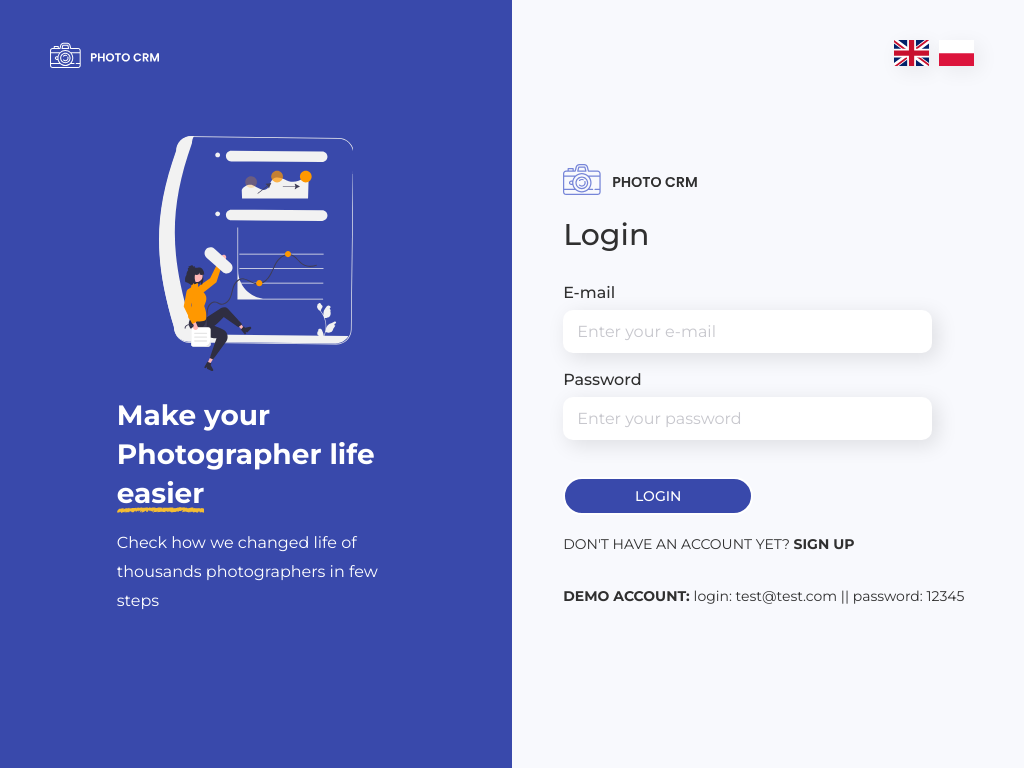
Test case: Auth test › Should display errors message when user dont type email and password
Click the button "LOGIN" at (658, 496), box 563,477 -> 753,515
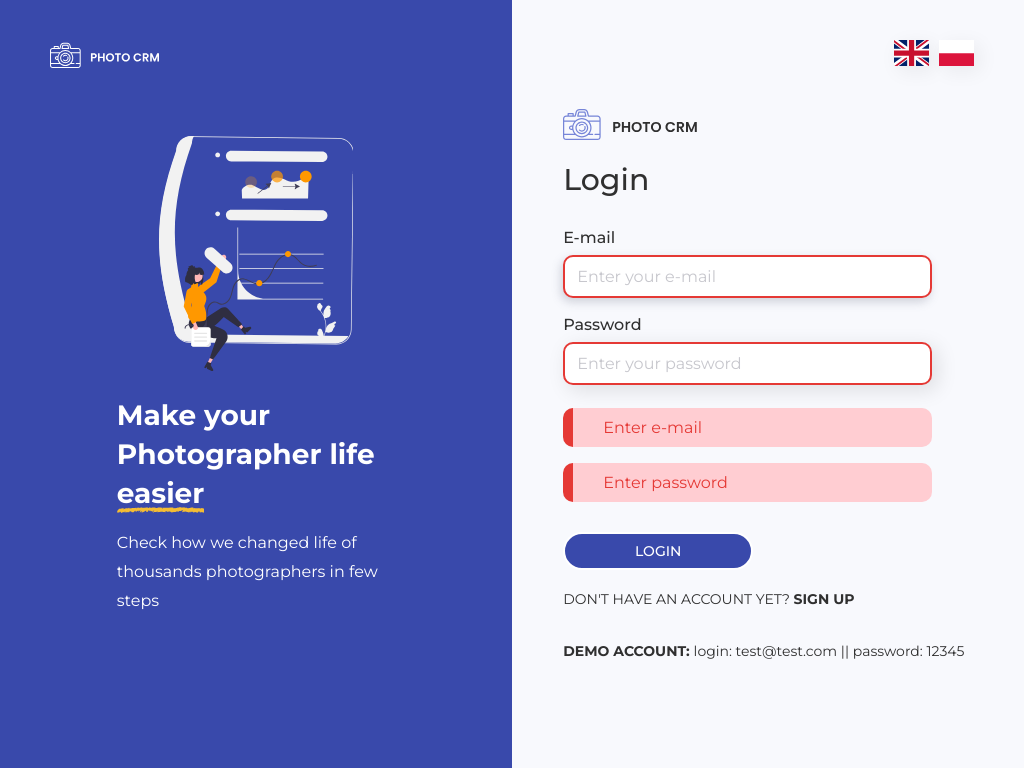
Now the text "Enter e-mail" is shown, box 563,408 -> 932,447
Now the text "Enter password" is shown, box 563,463 -> 932,502
